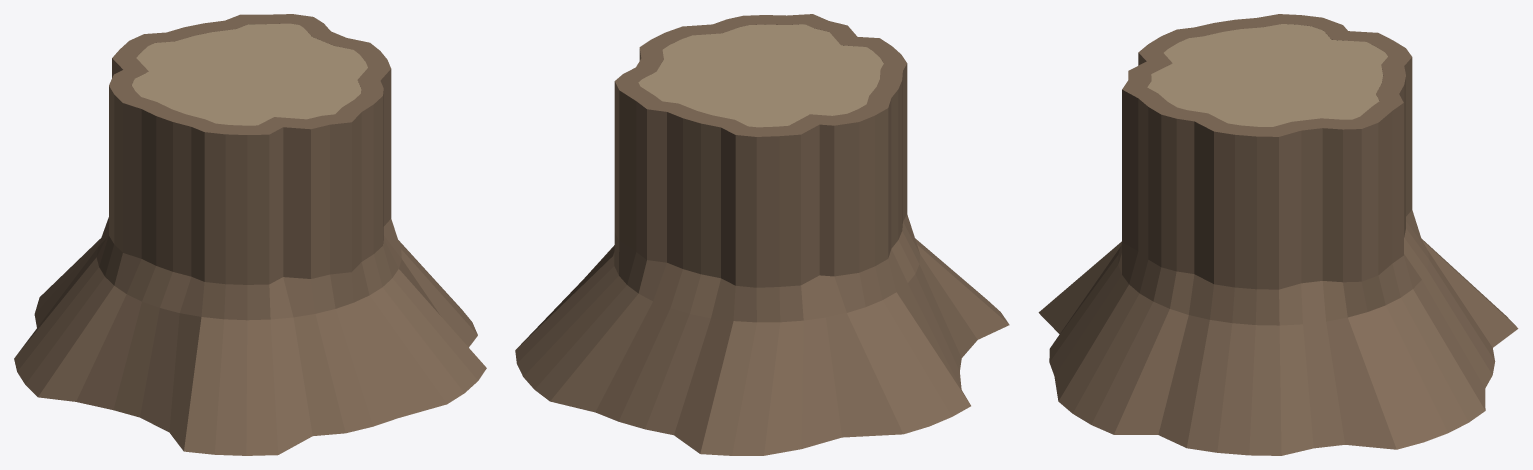
Rendered from Tree_trunk.glb.
3 views of the same model, side by side, from view 1: azimuth 30°, elevation 25°; view 2: azimuth 150°, elevation 25°; view 3: azimuth 270°, elevation 25° (orthographic).
Visible parts, largest first — view 1: Tree trunk 1; view 2: Tree trunk 1; view 3: Tree trunk 1.
Part boxes in pixels (x1,y1,x2,y2): Tree trunk 1: (14,14,486,455); Tree trunk 1: (515,14,1009,455); Tree trunk 1: (1038,14,1518,455).
Bounding box in the file's own units: 0.9981 × 0.6405 × 0.9949.
